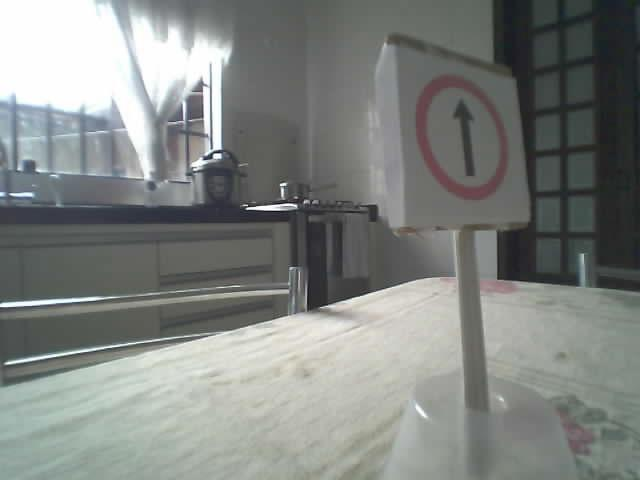R-26_frente: (415, 74, 506, 199)
